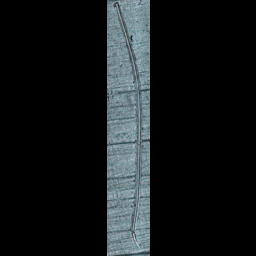d: (111, 1, 143, 251)
